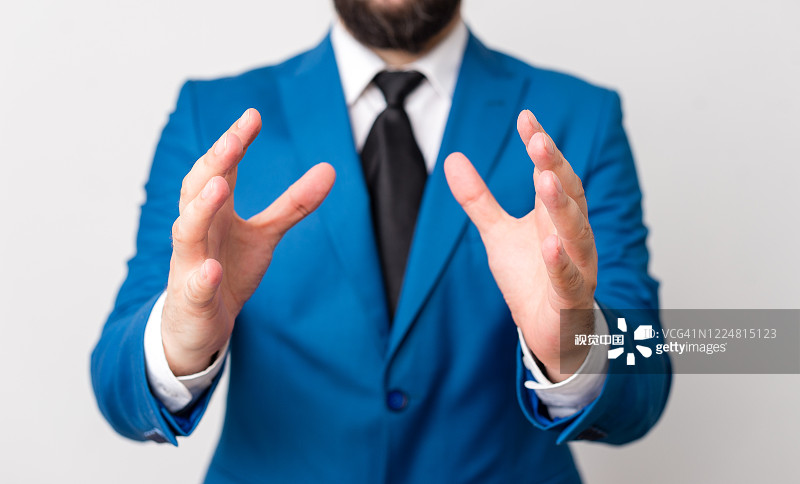no-phone: (121, 88, 359, 407), (428, 92, 618, 378)
